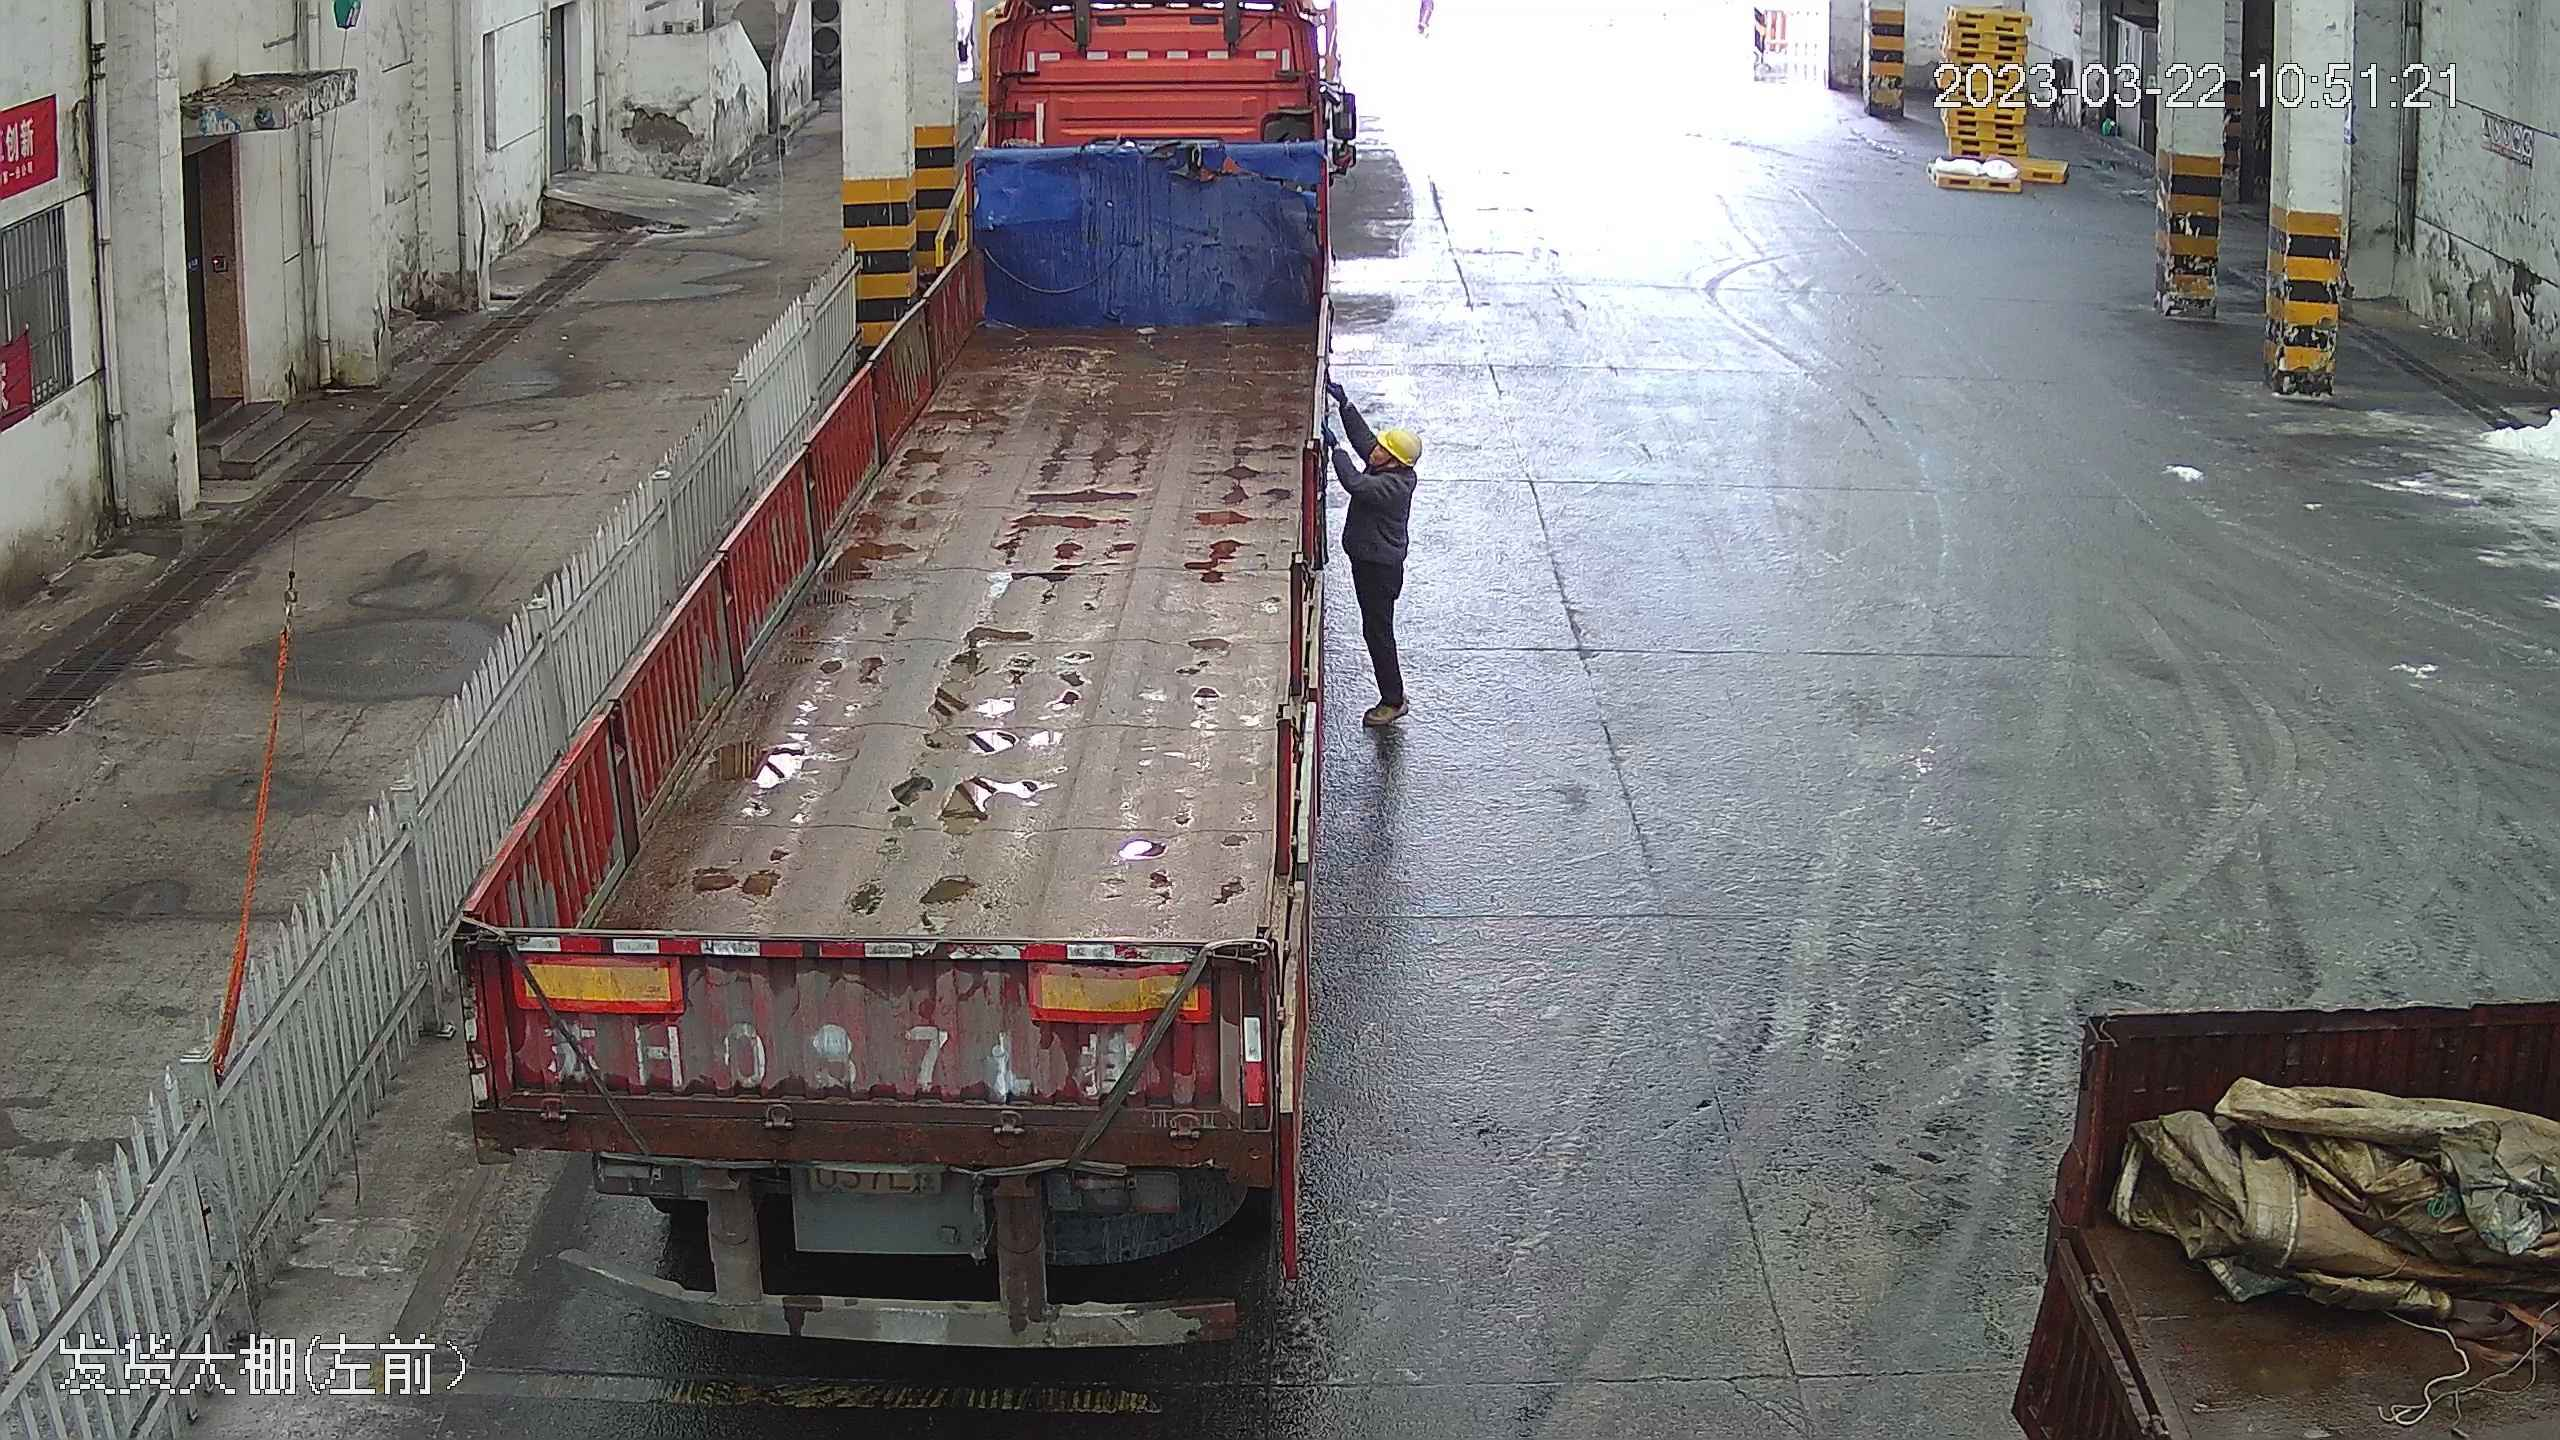head: (1348, 424, 1421, 515)
helmet: (1373, 423, 1421, 468)
people: (1339, 417, 1423, 736)
truck: (405, 0, 1385, 1352), (2021, 997, 2560, 1375)
